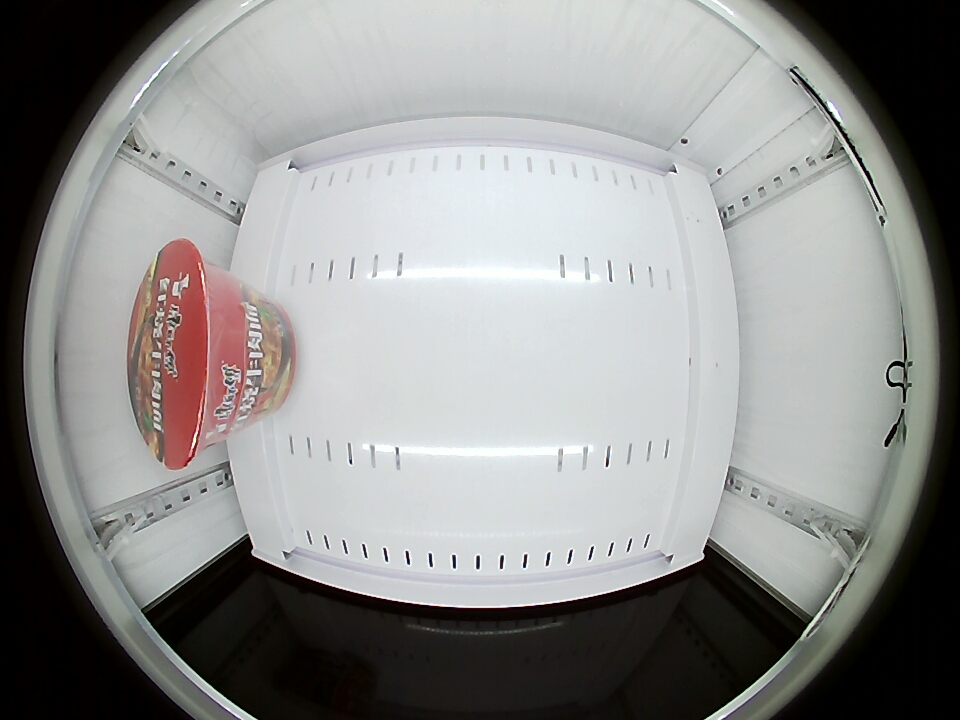hongshaoniurou: (129, 242, 258, 468)
